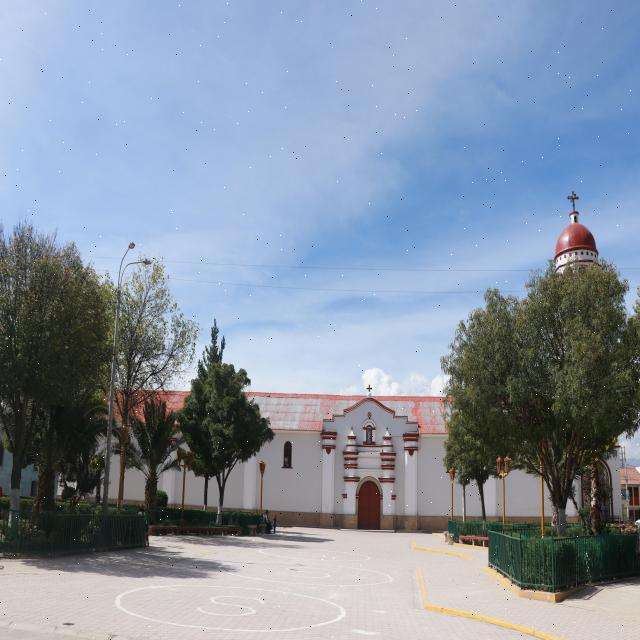PORTADA CENTRAL: (340, 426, 402, 538)
SIMETRIA COLONIAL: (307, 368, 437, 538)
